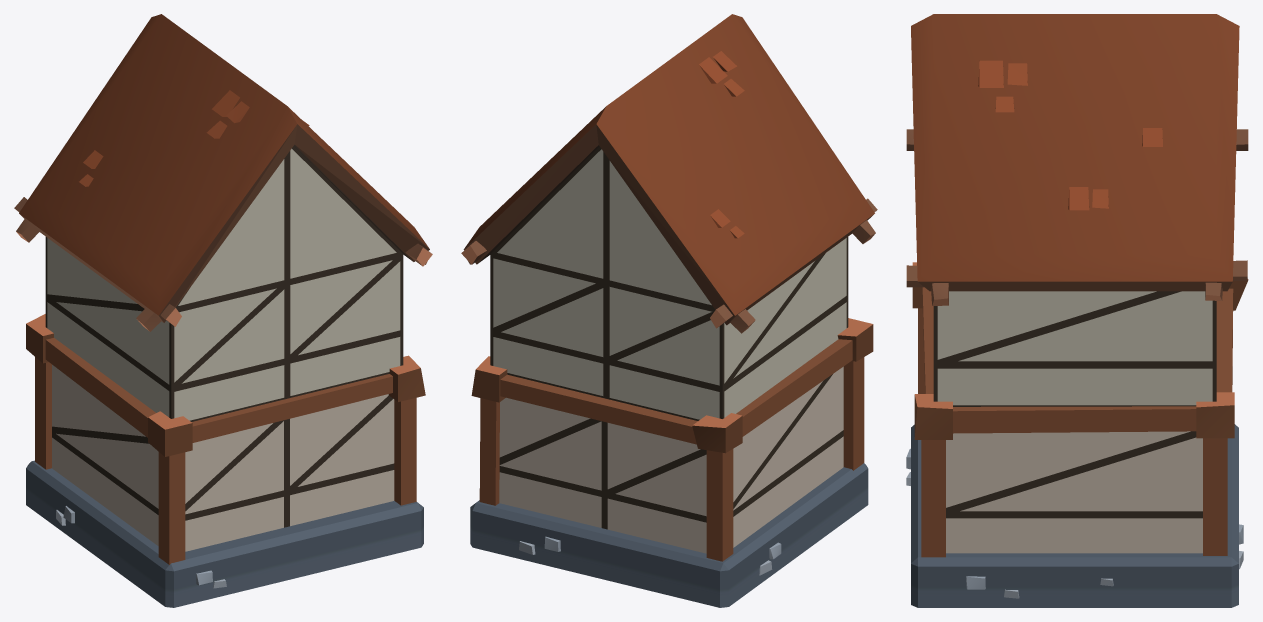
Rendered from house-ver8-small.glb.
The picture shows the model from 3 angles, left to right: view 1: azimuth 30°, elevation 25°; view 2: azimuth 150°, elevation 25°; view 3: azimuth 270°, elevation 25°; orthographic projection. The views are drawn at different scales.
Visible parts, largest first — view 1: House-ver8-small_Texture-base_0; view 2: House-ver8-small_Texture-base_0; view 3: House-ver8-small_Texture-base_0.
Boxes of the visible parts, bbox=[...] form: House-ver8-small_Texture-base_0: bbox=[14, 14, 432, 607]; House-ver8-small_Texture-base_0: bbox=[461, 14, 877, 607]; House-ver8-small_Texture-base_0: bbox=[906, 14, 1248, 607].
Bounding box in the file's own units: 5.69 × 8.71 × 5.17.
1 material, 1 textured.
